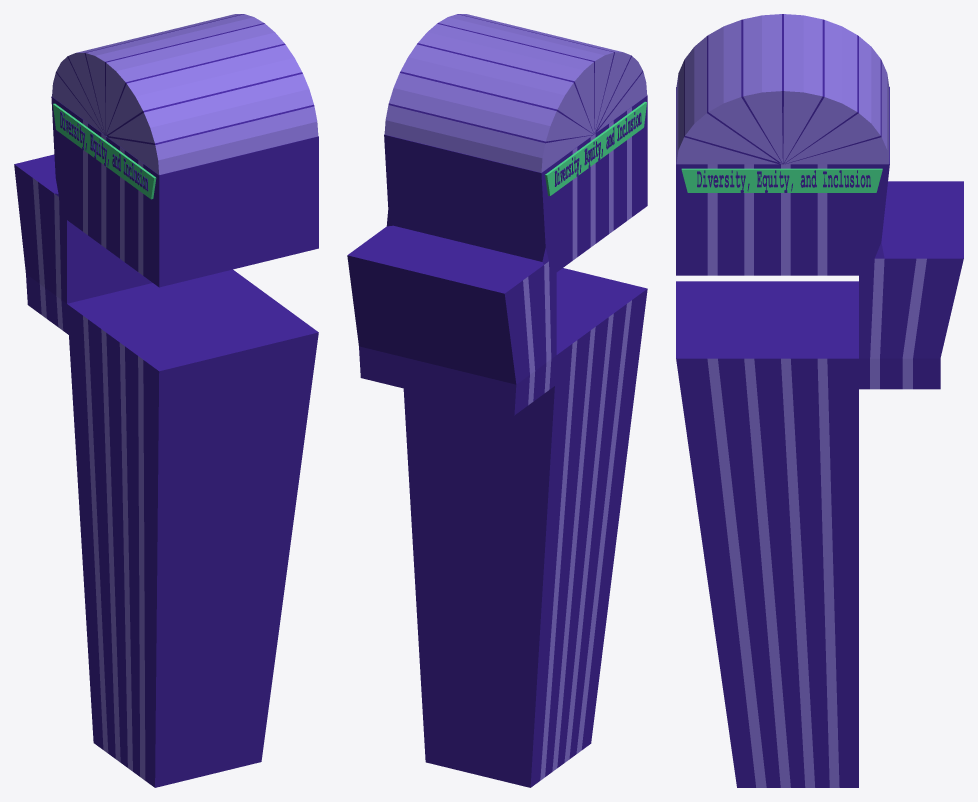
The model's file is DEI Tower.glb.
The picture shows the model from 3 angles, left to right: view 1: azimuth 30°, elevation 25°; view 2: azimuth 150°, elevation 25°; view 3: azimuth 270°, elevation 25°; orthographic projection.
Parts seen in each view (by area): view 1: Tower, Top, Sign.001; view 2: Tower, Top, Sign.001; view 3: Tower, Top, Sign.
Boxes of the visible parts, bbox=[...] form: Tower: bbox=[14, 96, 318, 787]; Top: bbox=[52, 14, 318, 174]; Sign.001: bbox=[53, 103, 156, 199]; Tower: bbox=[347, 95, 647, 787]; Top: bbox=[384, 14, 647, 172]; Sign.001: bbox=[545, 101, 646, 195]; Tower: bbox=[676, 87, 963, 787]; Top: bbox=[676, 14, 889, 164]; Sign: bbox=[681, 168, 882, 192].
Bounding box in the file's own units: 11.81 × 48.92 × 17.98.
